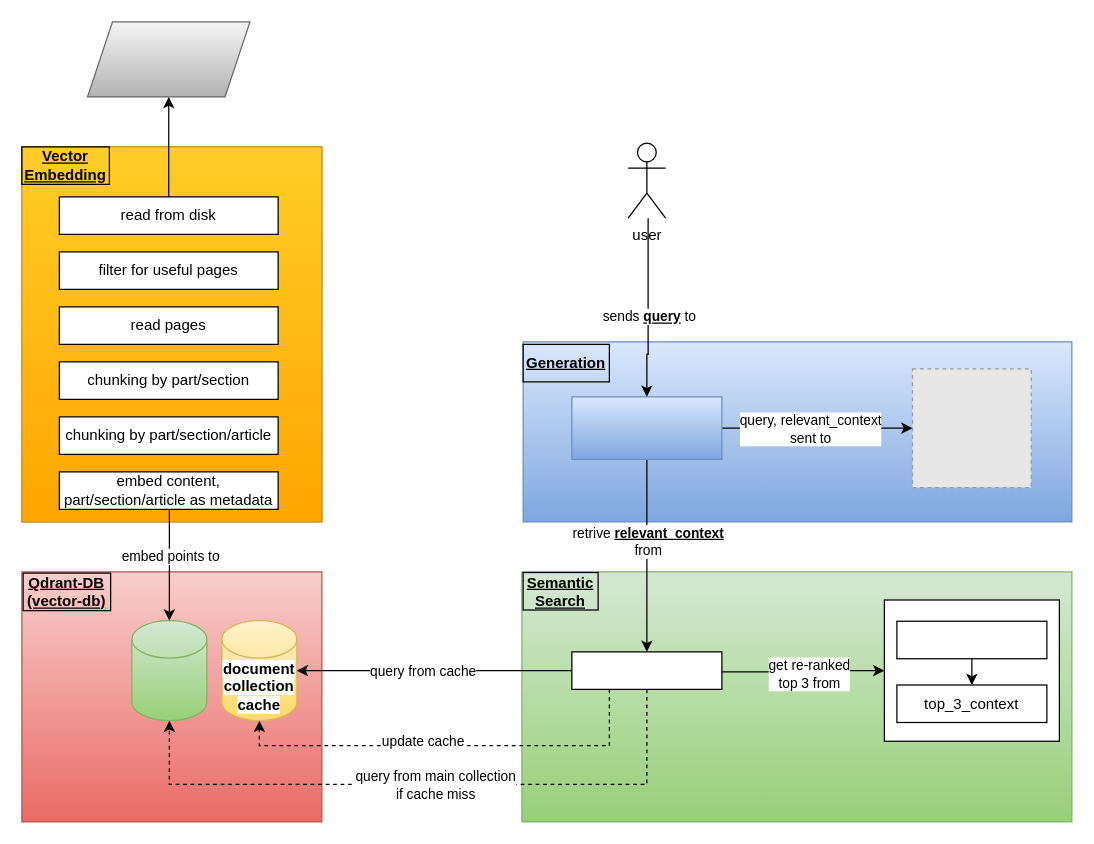
Some shapes in this 1094 by 844 pixel diagram are drawn without their labels. Grey dashed boxes stand in for pictures. Here are the shapes that lost their labels. From the top down, the centre of each, then its label:
At point (168, 59): "Policy Document (pdf)".
At point (646, 427): "Main program".
At point (971, 639): "reranking".
At point (169, 670): "document collection".
At point (646, 670): "search(query)".
